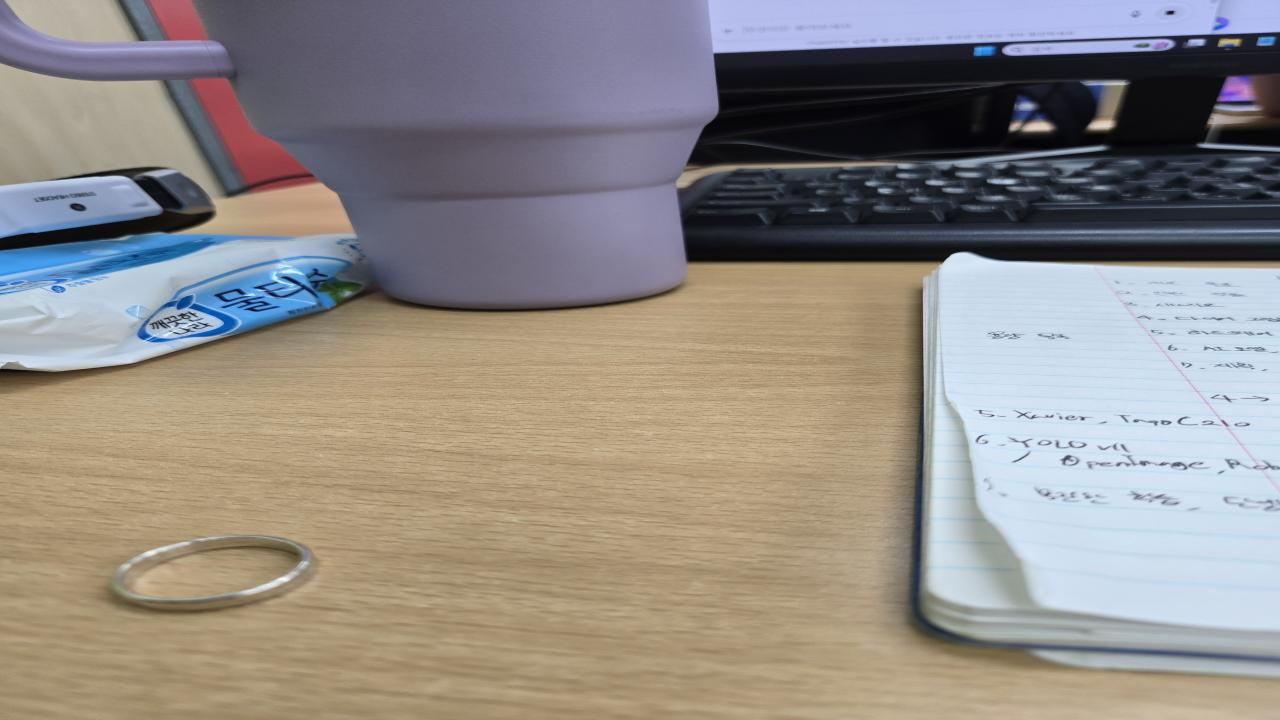ring: (105, 534, 319, 608)
